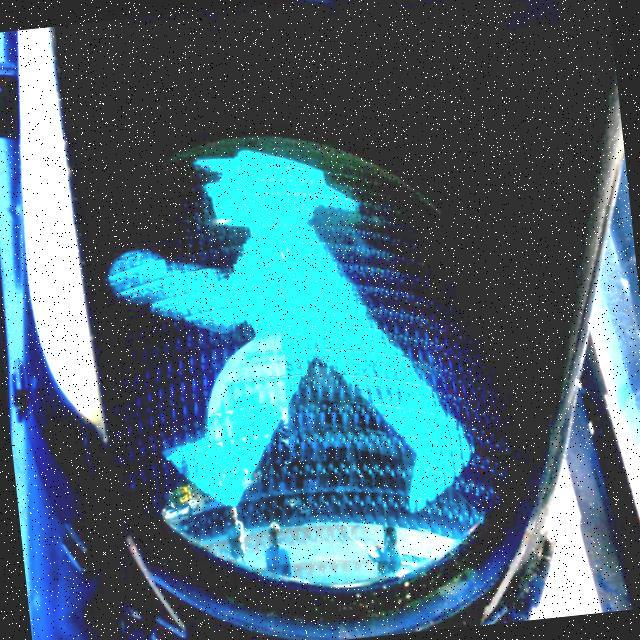green_light: (90, 115, 484, 546)
